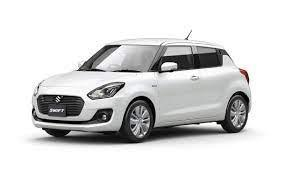Hatchback: (31, 36, 256, 141)
